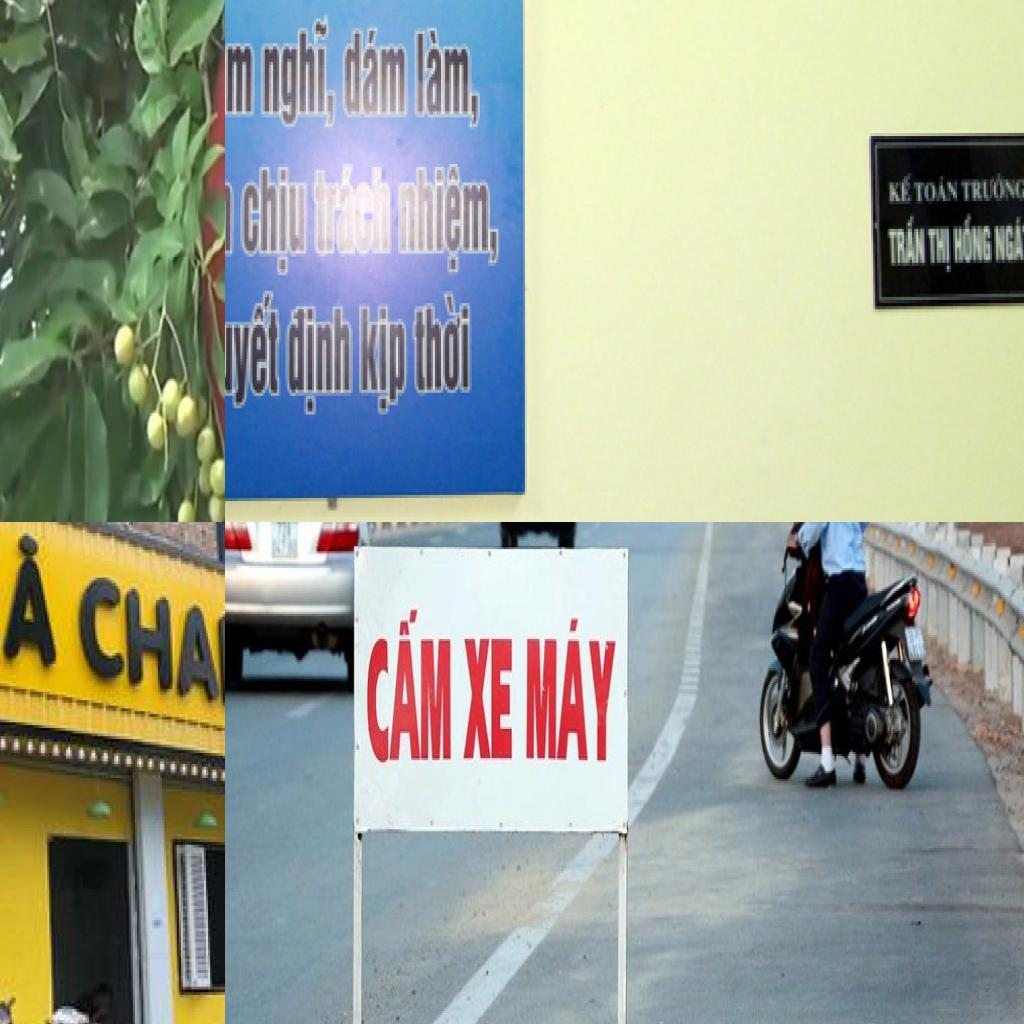text: (72, 569, 225, 738), (524, 616, 618, 767), (366, 610, 453, 766), (396, 164, 502, 278), (258, 15, 338, 136), (0, 522, 61, 677), (236, 164, 312, 281), (285, 300, 355, 424), (312, 164, 394, 263), (414, 25, 484, 133), (225, 290, 283, 417), (410, 291, 476, 402), (339, 28, 410, 124), (462, 637, 514, 760), (357, 306, 410, 418), (225, 24, 257, 120), (951, 213, 994, 266), (959, 173, 1024, 207), (886, 217, 928, 269), (914, 176, 961, 207), (926, 223, 953, 275), (888, 173, 916, 207)
